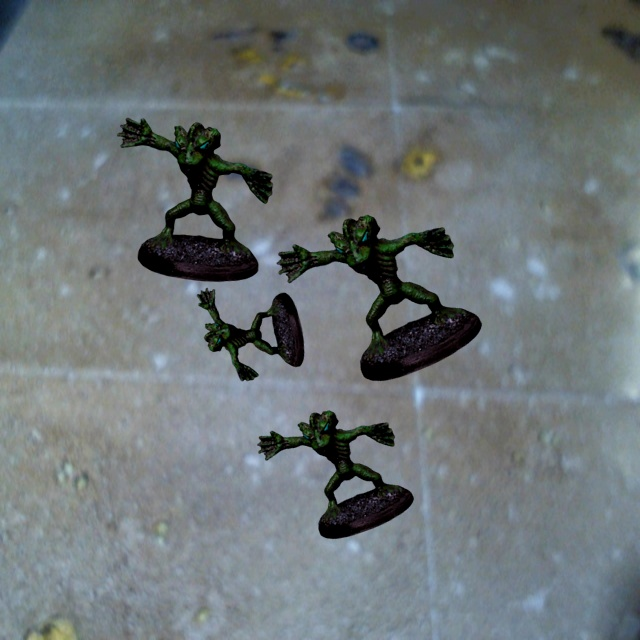pieza_juego: (276, 215, 481, 380), (117, 118, 272, 281), (257, 410, 413, 538), (197, 288, 304, 380)
